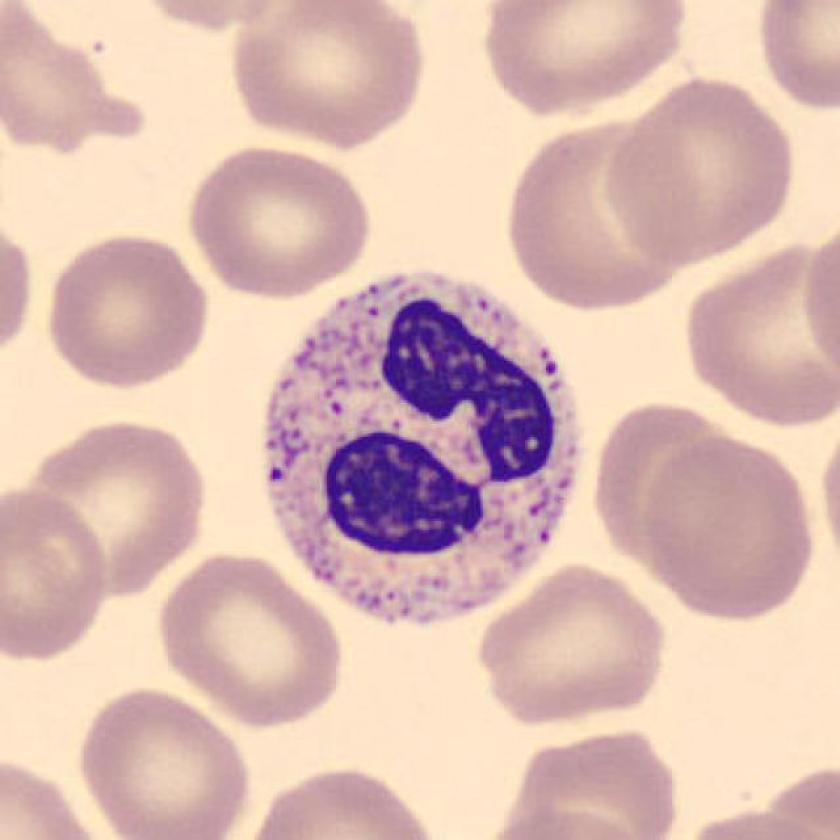neutrophil: (264, 273, 577, 623)
